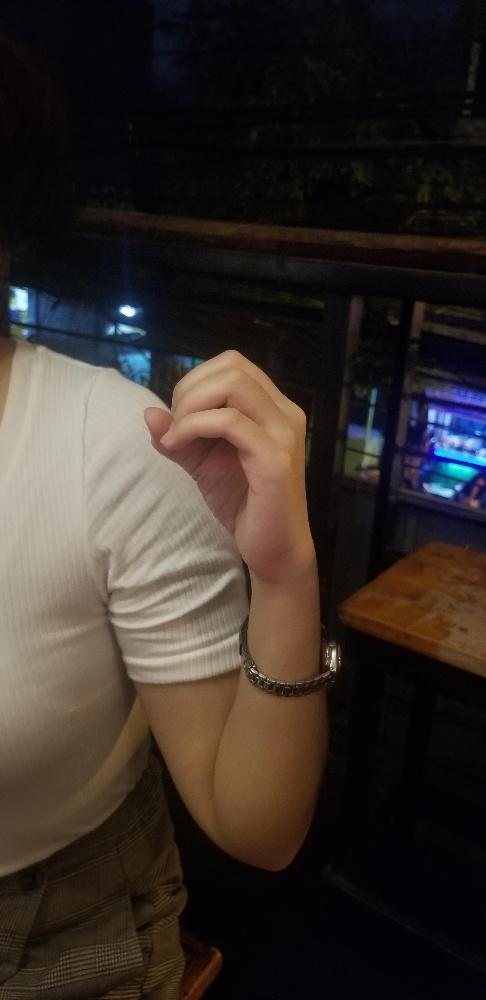o: (142, 348, 306, 561)
